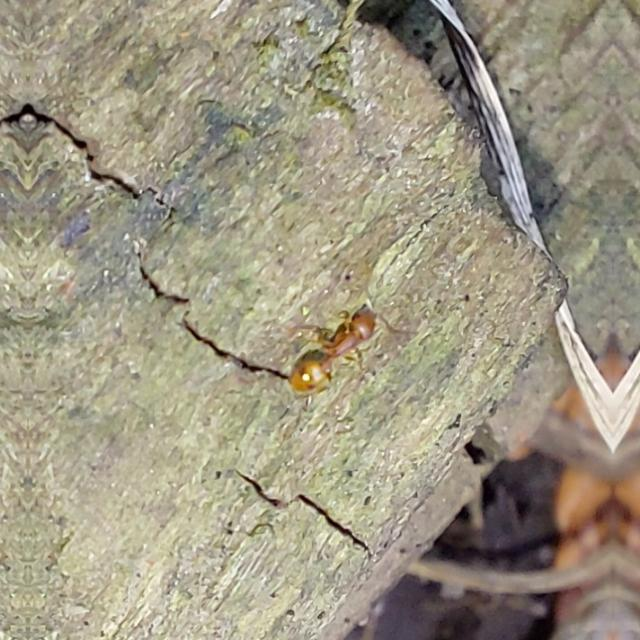Temnothorax: (280, 288, 398, 406)
